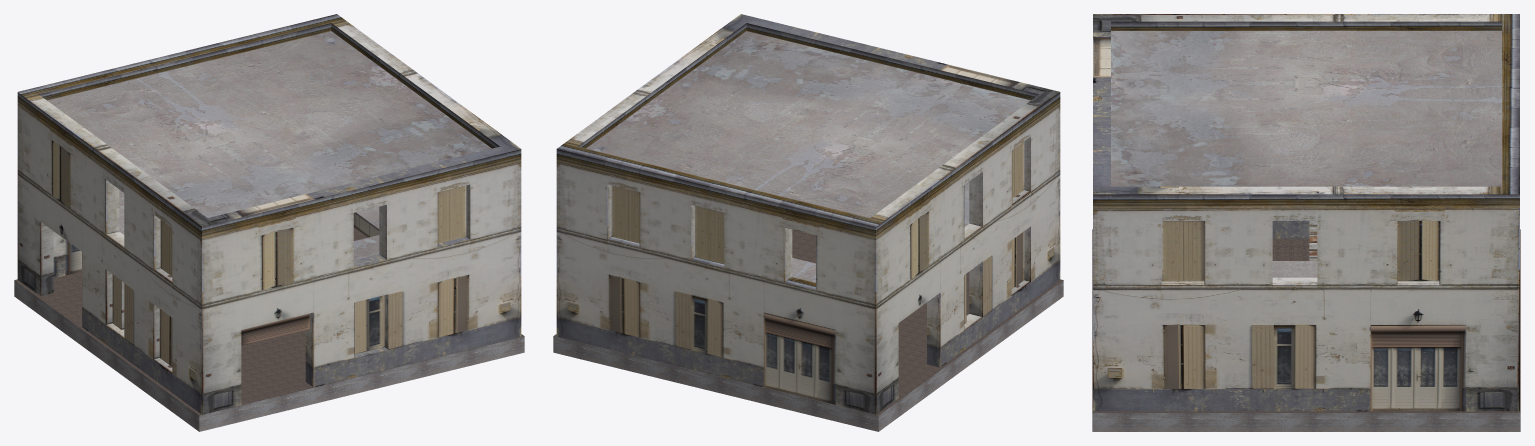
Rendered from BagBuilding16High.fbx.
3 views of the same model, side by side, from view 1: azimuth 30°, elevation 25°; view 2: azimuth 150°, elevation 25°; view 3: azimuth 270°, elevation 25° (orthographic). The views are drawn at different scales.
Parts seen in each view (by area): view 1: mainA300, roofA300, floorB300, floorA300, upper300; view 2: mainB300, mainA300, roofA300, floorB300, floorA300, upper300; view 3: mainB300, roofA300, mainA300, floorB300, floorA300, upper300.
Part boxes in pixels (x1,y1,x2,y2): mainA300: (17,14,521,414); roofA300: (47,31,491,217); floorB300: (14,280,524,431); floorA300: (14,227,524,415); upper300: (119,189,379,260); mainB300: (556,23,1038,414); mainA300: (557,14,1060,414); roofA300: (586,31,1030,217); floorB300: (553,280,1063,431); floorA300: (553,229,1063,415); upper300: (792,182,969,282); mainB300: (1093,21,1519,411); roofA300: (1111,31,1501,186); mainA300: (1093,14,1519,285); floorB300: (1092,413,1520,431); floorA300: (1092,229,1520,412); upper300: (1272,261,1317,277).
Size of the model in its own units: 27.37 by 17.24 by 26.97.
